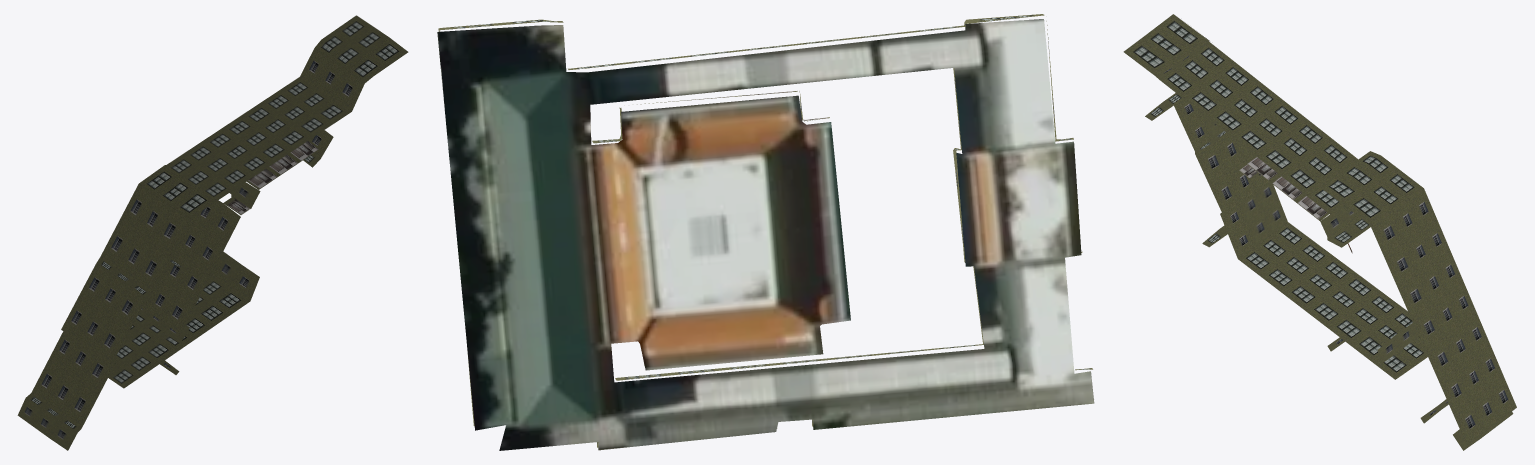
File: tile_LOD4_r14_c13.glb
The picture shows the model from 3 angles, left to right: view 1: azimuth 30°, elevation 25°; view 2: azimuth 150°, elevation 25°; view 3: azimuth 270°, elevation 25°; orthographic projection. The views are drawn at different scales.
Size of the model in its own units: 73.5 by 46.25 by 55.5.
5 materials, 5 textured.
